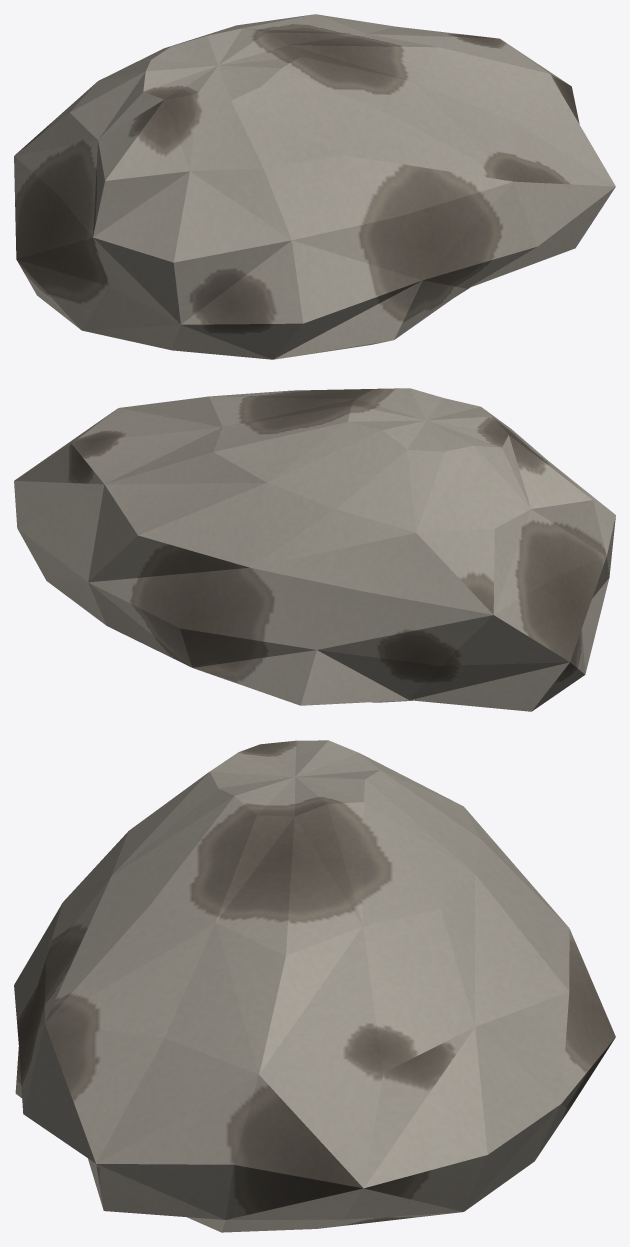
File: CommonStone_Loose_A.fbx
3 renders of one model, top to bottom at view 1: azimuth 30°, elevation 25°; view 2: azimuth 150°, elevation 25°; view 3: azimuth 270°, elevation 25°, orthographic. The views are drawn at different scales.
Visible parts, largest first — view 1: CommonStone_Loose_A_LOD0; view 2: CommonStone_Loose_A_LOD0; view 3: CommonStone_Loose_A_LOD0.
Boxes of the visible parts, x1,y1,x2,y2 form: CommonStone_Loose_A_LOD0: [14, 14, 615, 359]; CommonStone_Loose_A_LOD0: [14, 388, 615, 711]; CommonStone_Loose_A_LOD0: [14, 740, 615, 1232].
Size of what is drawn, in the model's own units: 253 by 109 by 185.
